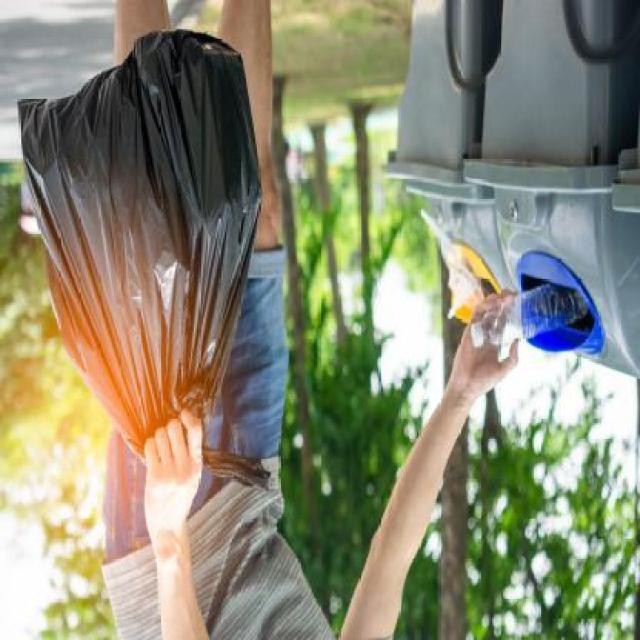garbage container: (465, 2, 640, 359), (377, 2, 525, 338)
